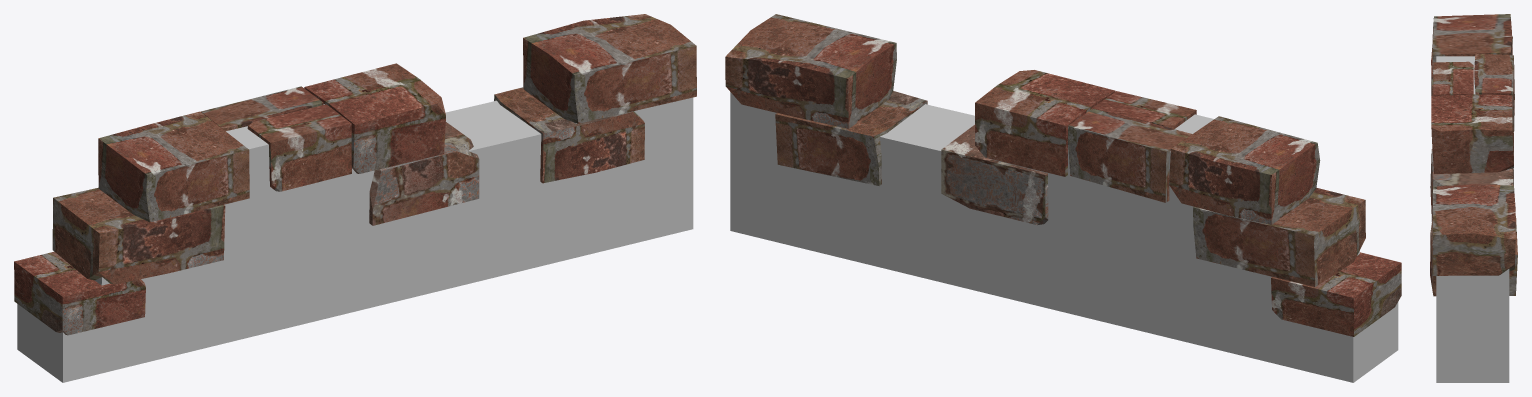
The model's file is SM_Wall_Ruined_02.fbx.
The picture shows the model from 3 angles, left to right: view 1: azimuth 30°, elevation 25°; view 2: azimuth 150°, elevation 25°; view 3: azimuth 270°, elevation 25°; orthographic projection. The views are drawn at different scales.
Visible parts, largest first — view 1: SM_Wall_Ruined_02_LOD0; view 2: SM_Wall_Ruined_02_LOD0; view 3: SM_Wall_Ruined_02_LOD0.
Boxes of the visible parts, x1=… form: SM_Wall_Ruined_02_LOD0: x1=14, y1=14, x2=696, y2=382; SM_Wall_Ruined_02_LOD0: x1=725, y1=14, x2=1401, y2=382; SM_Wall_Ruined_02_LOD0: x1=1430, y1=14, x2=1517, y2=382.
Size of what is drawn, in the model's own units: 402 by 117 by 60.04.
